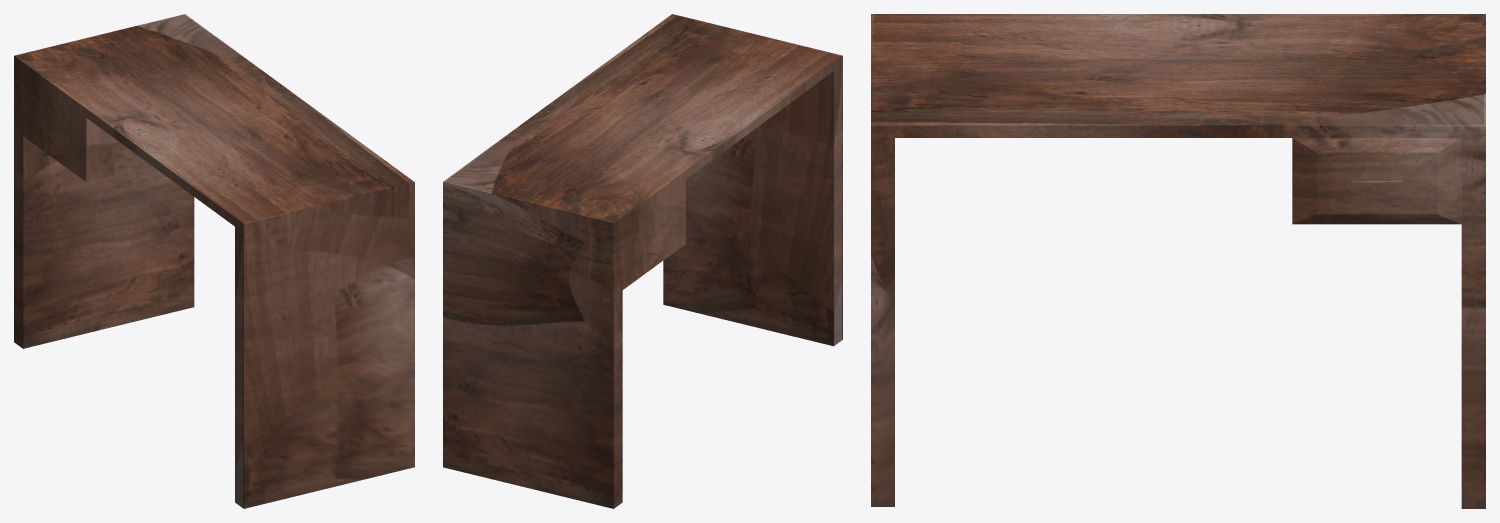
Rendered from Mesa.fbx.
3 views of the same model, side by side, from view 1: azimuth 30°, elevation 25°; view 2: azimuth 150°, elevation 25°; view 3: azimuth 270°, elevation 25° (orthographic). The views are drawn at different scales.
Parts seen in each view (by area): view 1: node_id4; view 2: node_id4; view 3: node_id4.
Boxes of the visible parts, bbox=[...] form: node_id4: bbox=[14, 14, 414, 508]; node_id4: bbox=[443, 14, 842, 508]; node_id4: bbox=[871, 14, 1485, 508].
Bounding box in the file's own units: 0.1693 × 0.2606 × 0.3788.
1 material, 1 textured.
